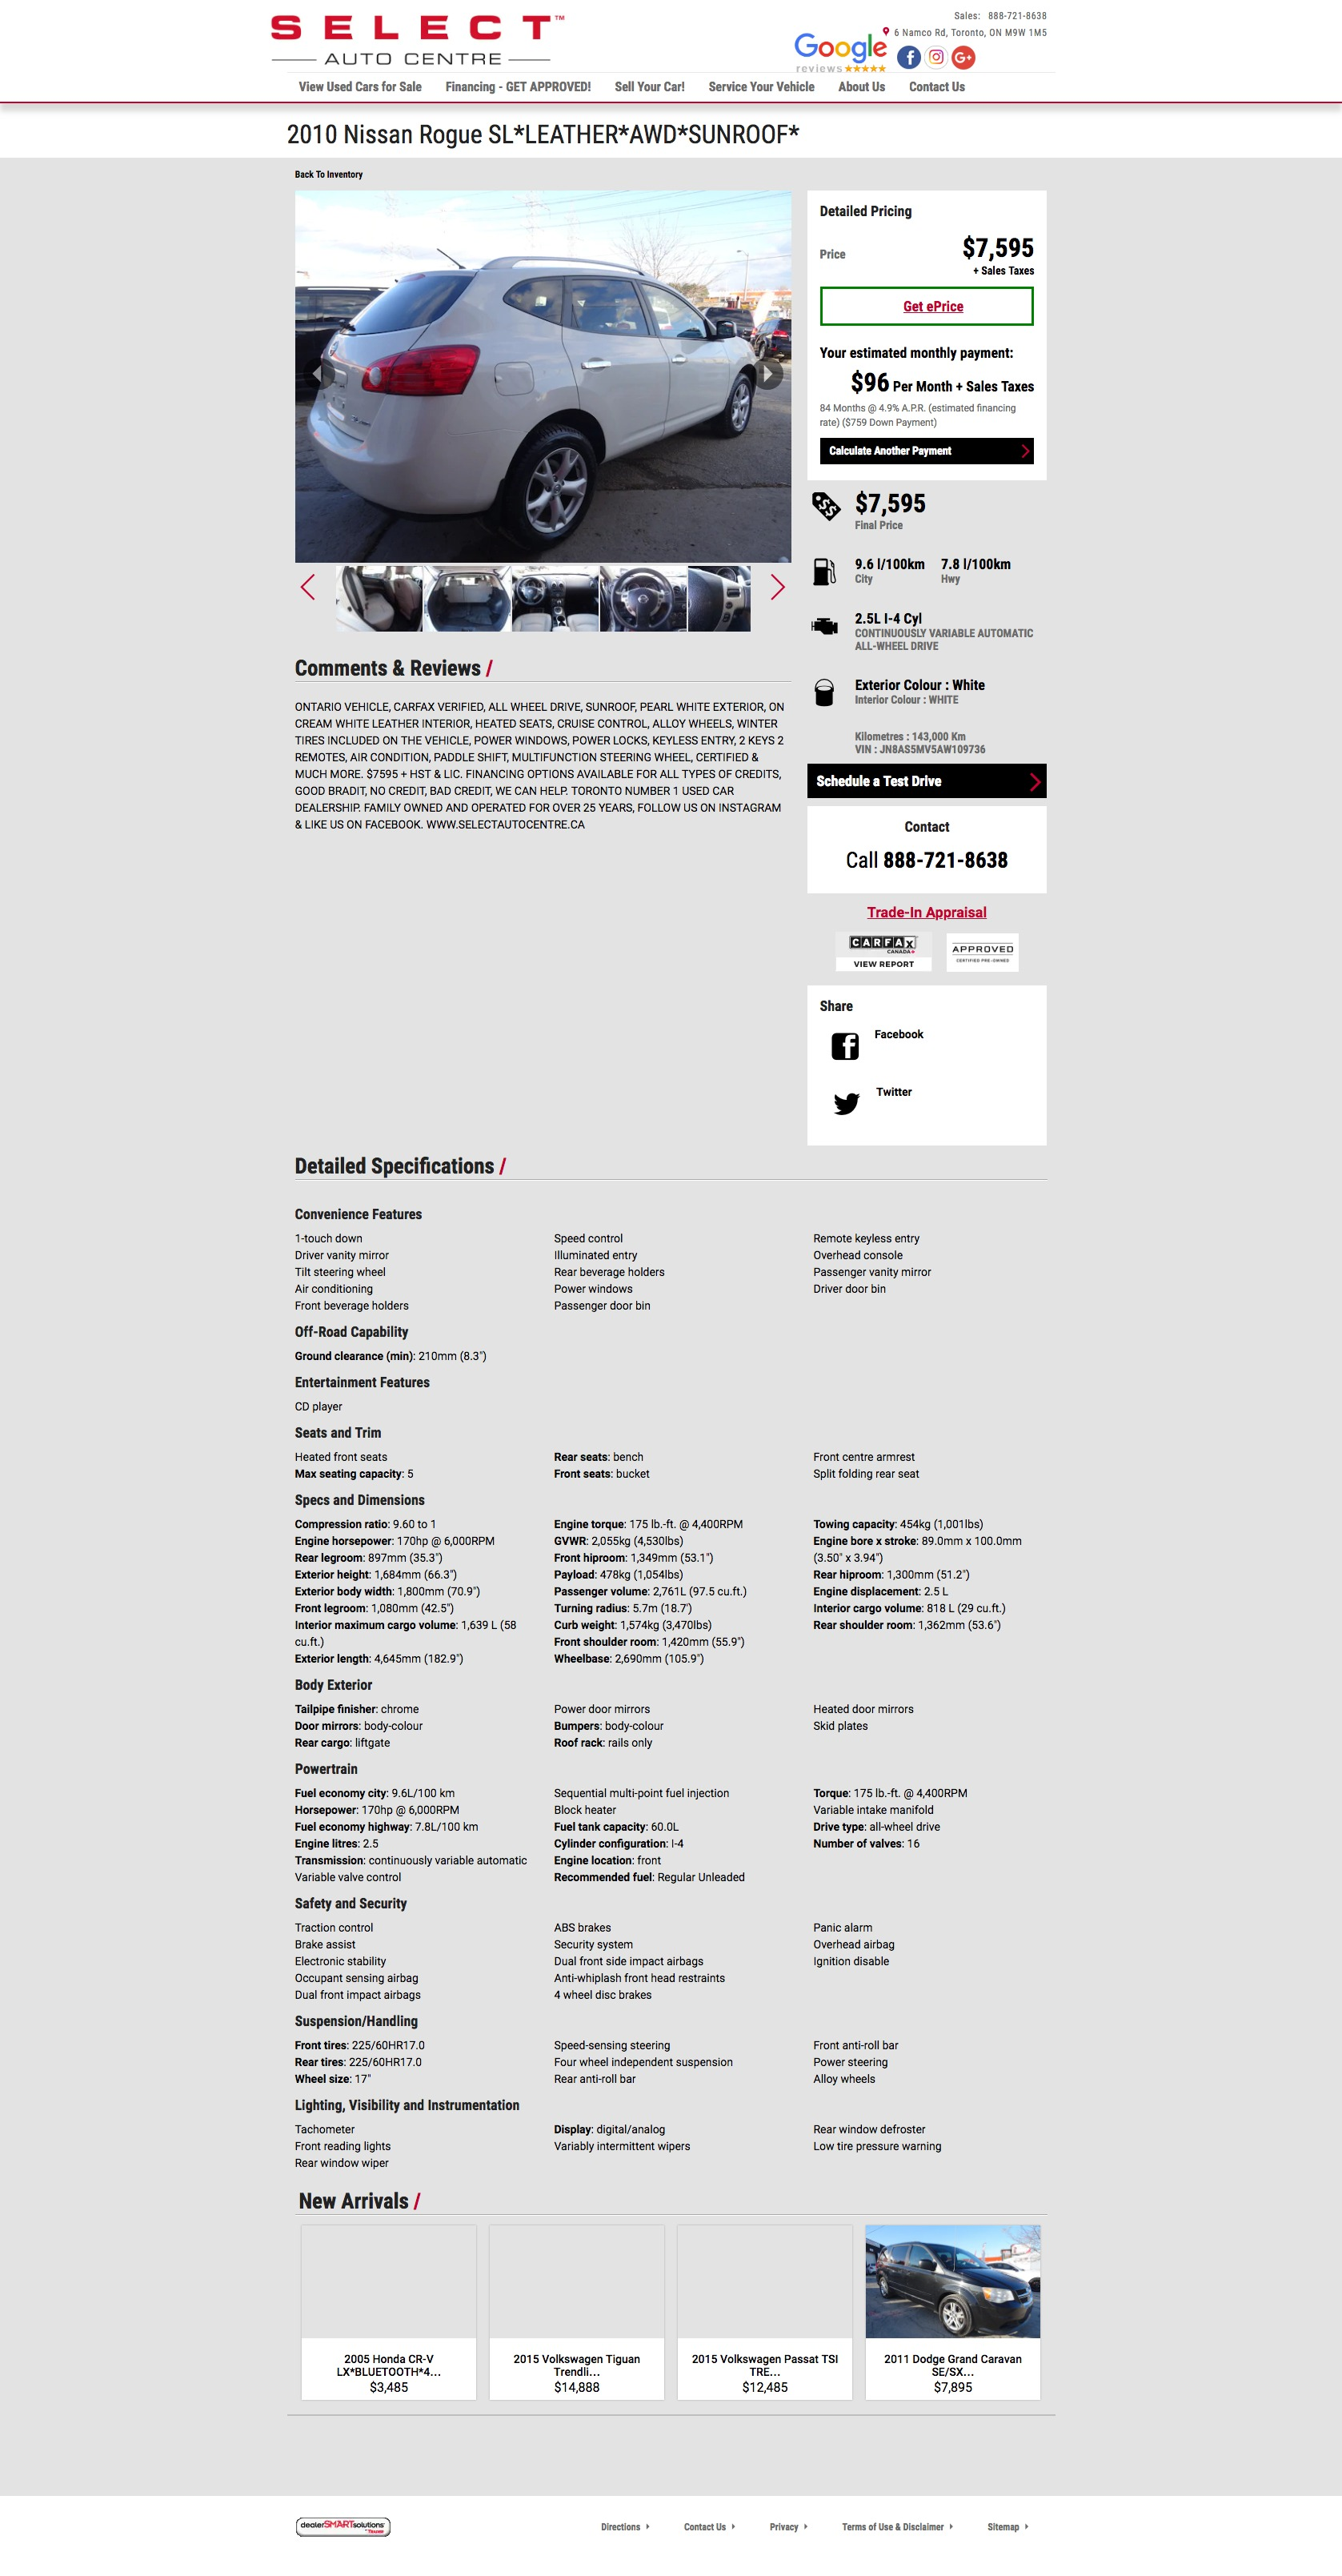car: (768, 572, 789, 603)
